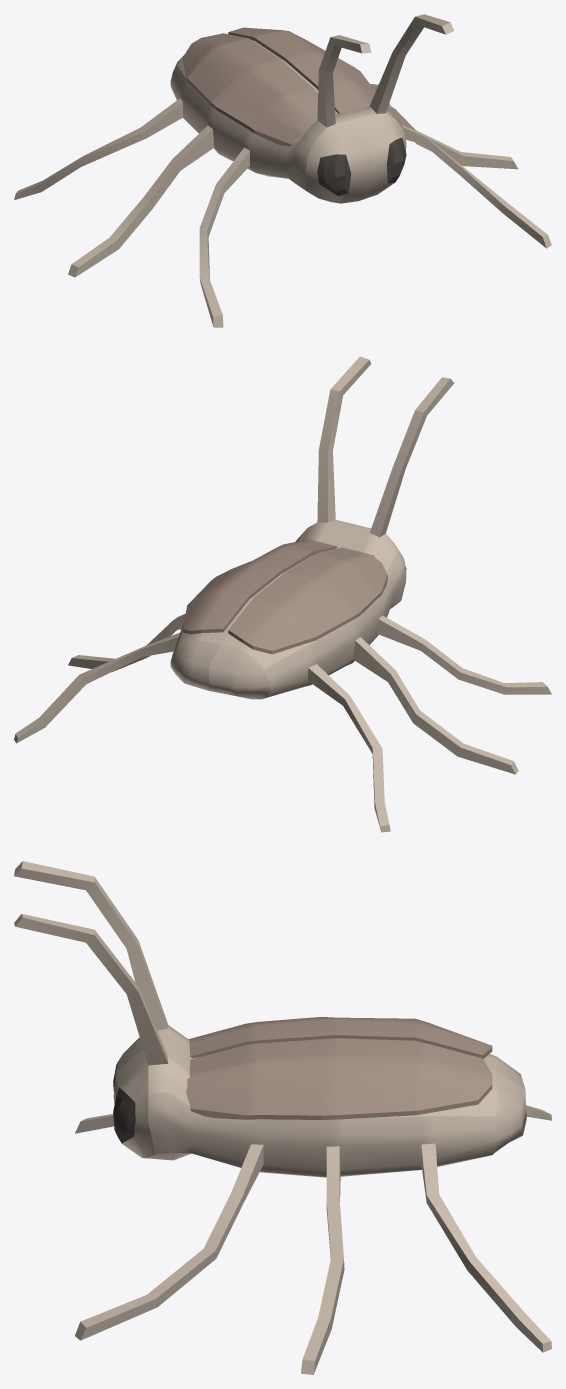
Rendered from Scout_Model_SC.fbx.
3 renders of one model, top to bottom at view 1: azimuth 30°, elevation 25°; view 2: azimuth 150°, elevation 25°; view 3: azimuth 270°, elevation 25°, orthographic. The views are drawn at different scales.
Parts seen in each view (by area): view 1: Scout4, Wings5; view 2: Scout4, Wings5; view 3: Scout4, Wings5.
Part boxes in pixels (x1,y1,x2,y2): Scout4: [14, 14, 551, 327]; Wings5: [183, 27, 375, 146]; Scout4: [14, 356, 551, 832]; Wings5: [183, 539, 387, 654]; Scout4: [14, 861, 551, 1374]; Wings5: [186, 1017, 492, 1119].
Size of the model in its own units: 2.38 by 1.37 by 1.93.
